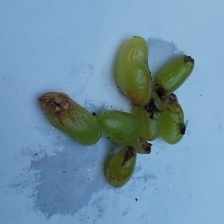grapes: (37, 10, 187, 203)
